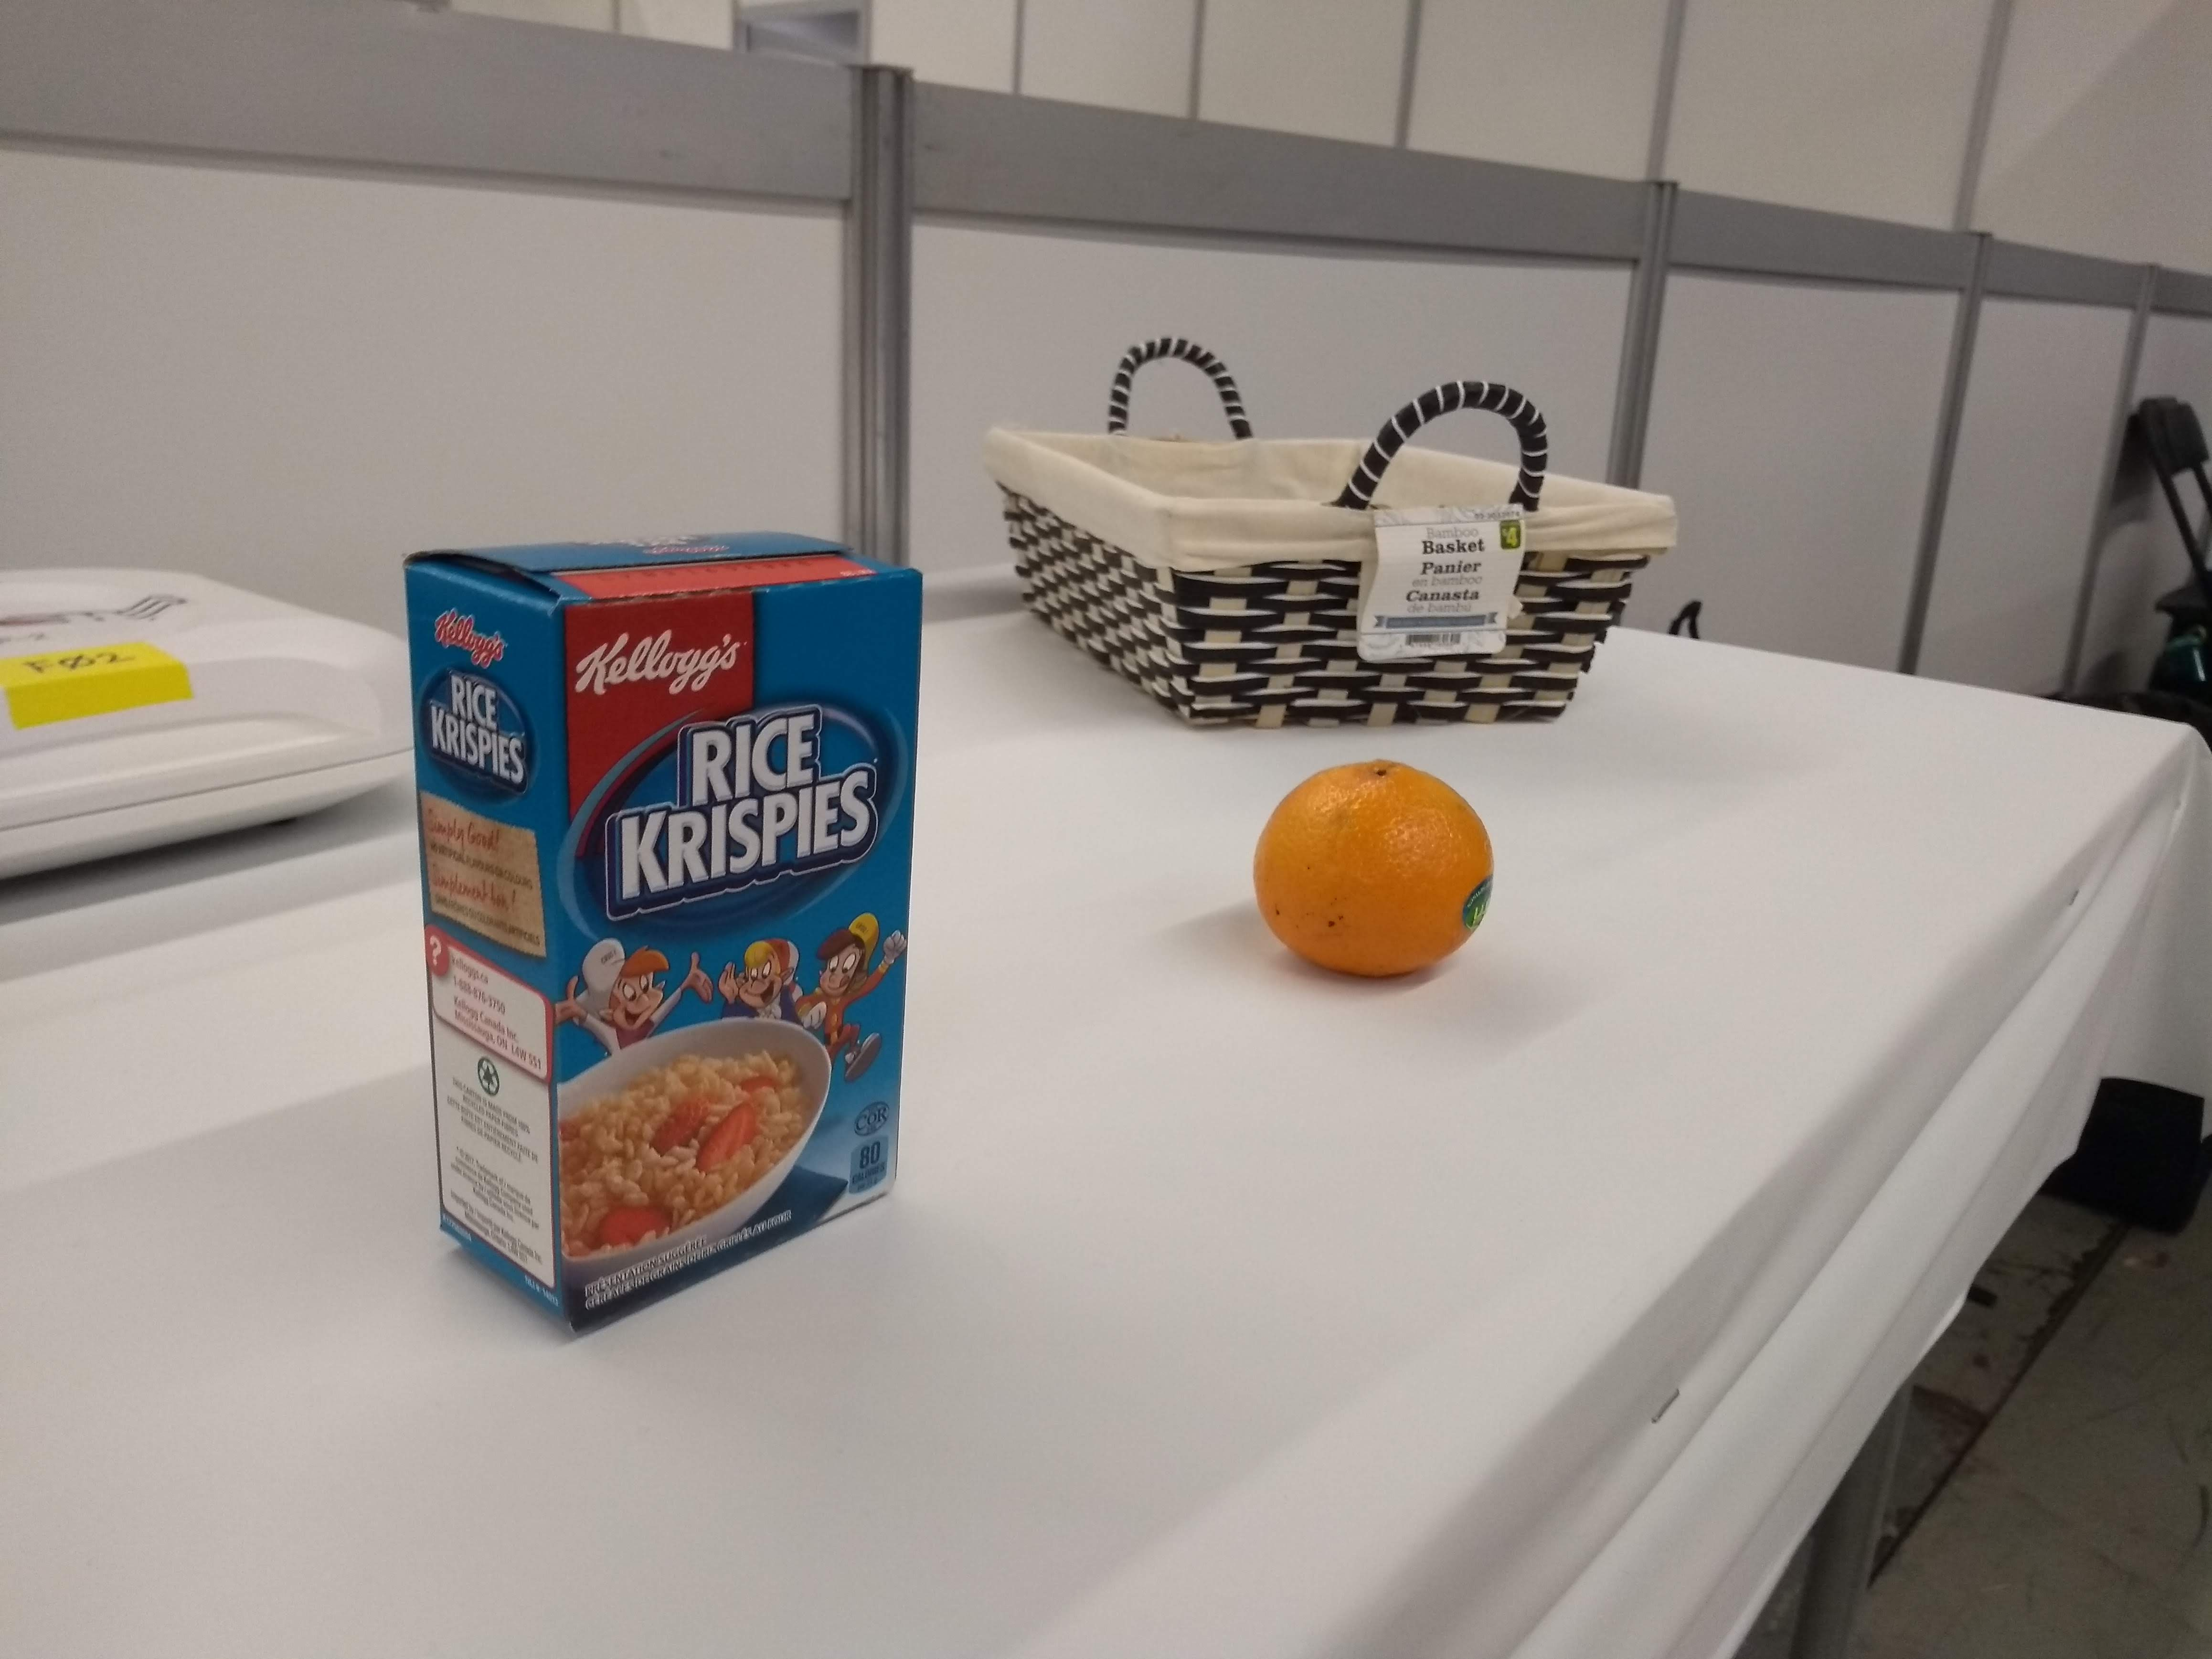basket: (979, 321, 1684, 741)
cereal: (395, 518, 934, 1342)
orange: (1249, 753, 1501, 986)
